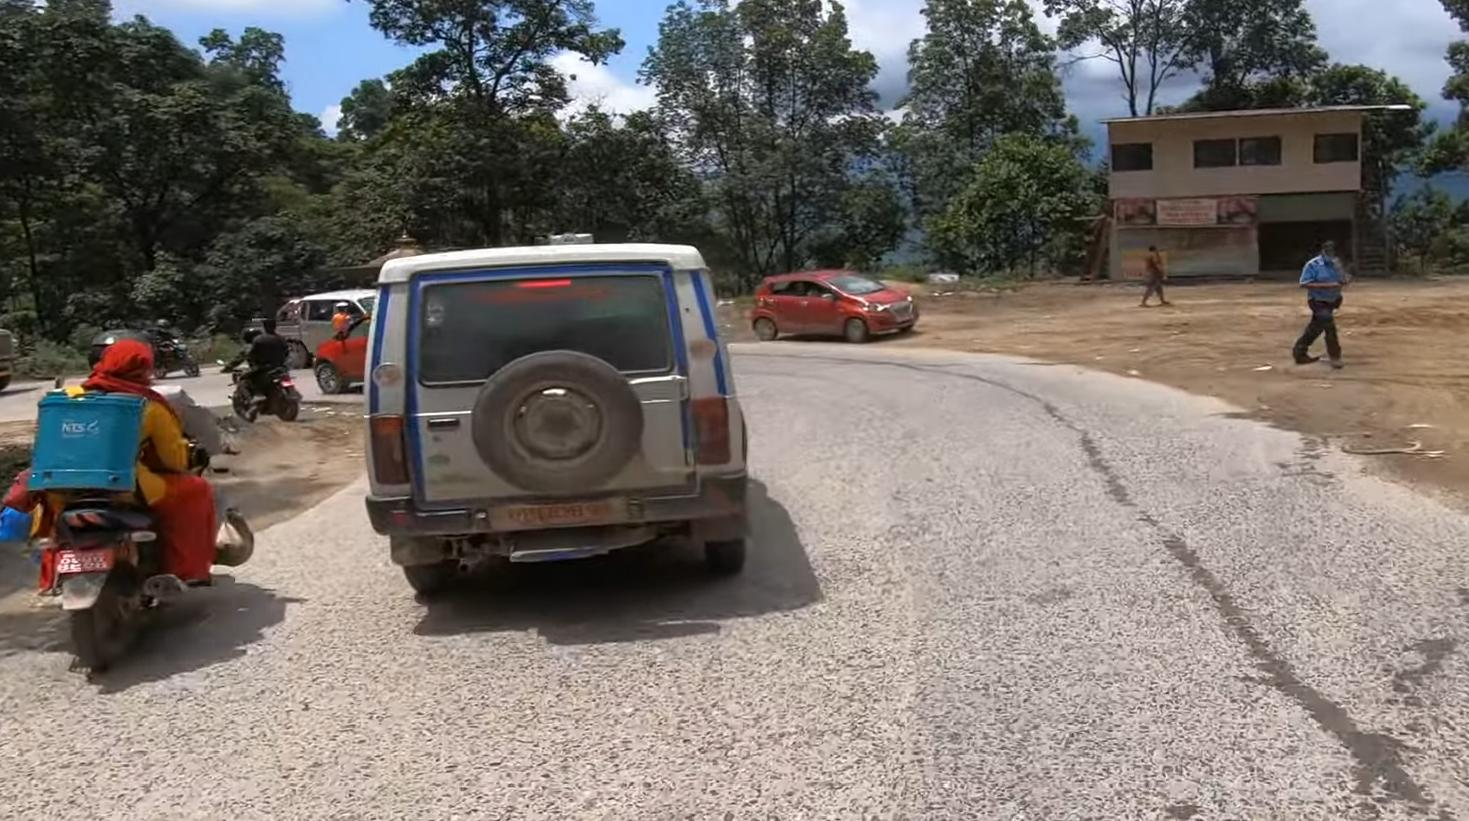ambulance: (356, 231, 762, 607)
bike: (37, 428, 227, 682), (219, 361, 306, 422)
car: (749, 263, 918, 346)
